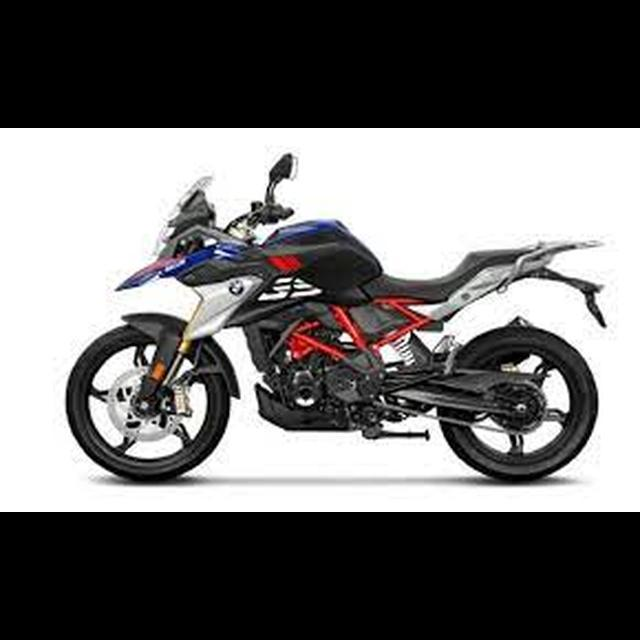motorcycle: (63, 151, 610, 480)
